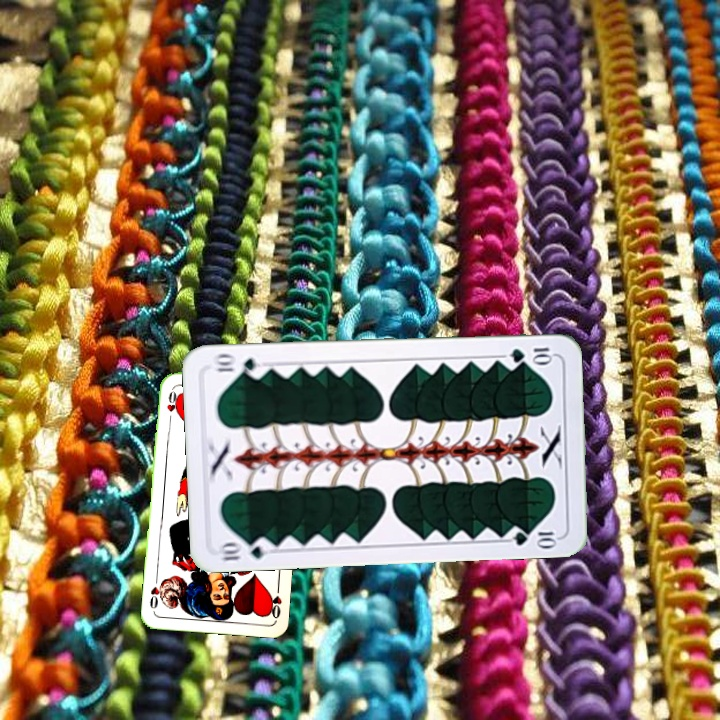G10: (215, 535, 274, 564), (506, 343, 556, 365)
HO: (265, 581, 284, 621), (163, 385, 179, 425)
